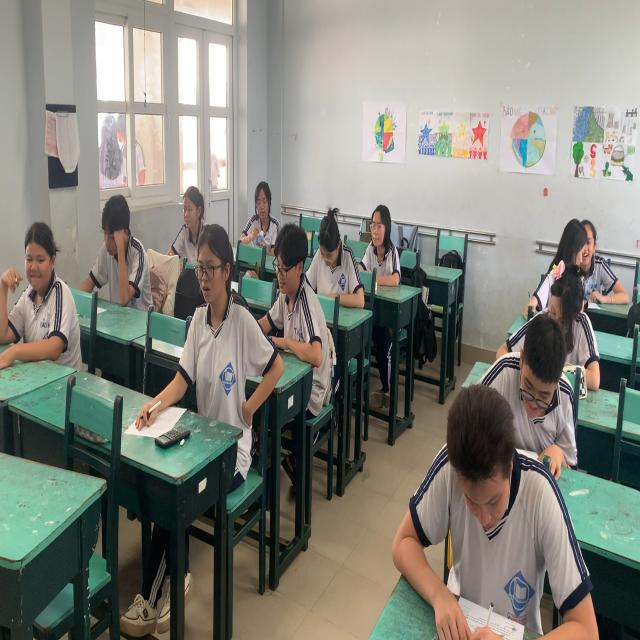cheating: (561, 209, 587, 278)
not_cheating: (421, 383, 550, 640), (191, 226, 252, 437), (491, 315, 576, 466), (4, 205, 82, 354), (266, 216, 326, 372), (91, 190, 146, 322), (544, 272, 596, 388), (312, 204, 362, 312), (578, 214, 630, 312), (358, 200, 400, 286), (247, 174, 280, 250), (170, 183, 206, 246)
